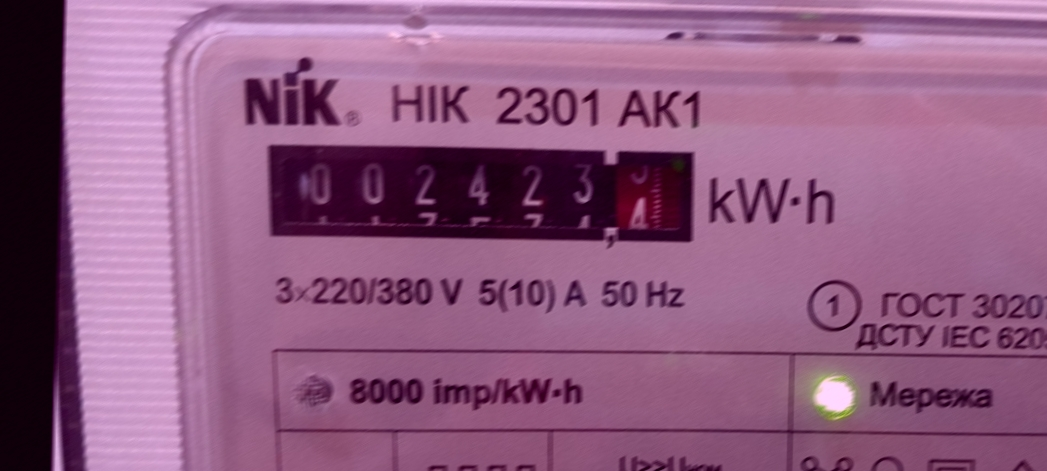0: (306, 157, 334, 206), (359, 159, 385, 204)
2: (411, 159, 438, 206), (518, 161, 543, 207)
3: (570, 159, 594, 204), (628, 160, 649, 184)
4: (465, 160, 489, 206), (625, 192, 650, 230)
screen: (254, 128, 707, 258)
